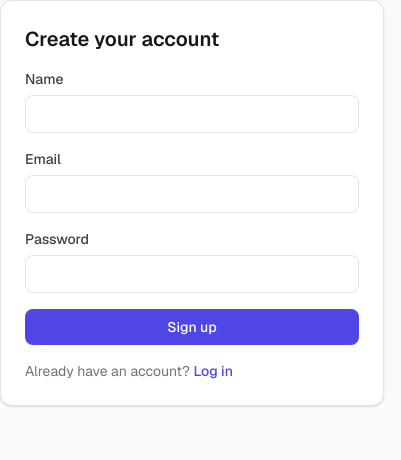
SignupForm › renders the error the action returns
The width and height of the screenshot is (401, 460).
Step 1. Type "taken@example.com" into the field labelled "Email" → (192, 194), box [25,175,359,213]
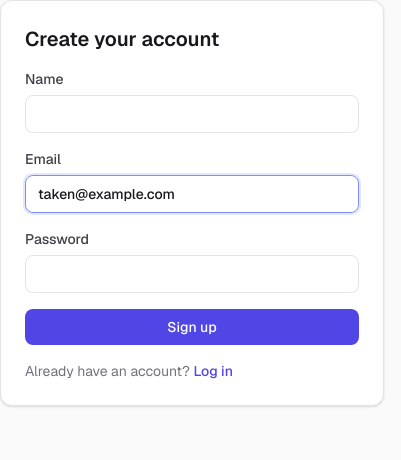
Step 2. Type "supersecret" into the password field labelled "Password" → (192, 274), box [25,255,359,293]
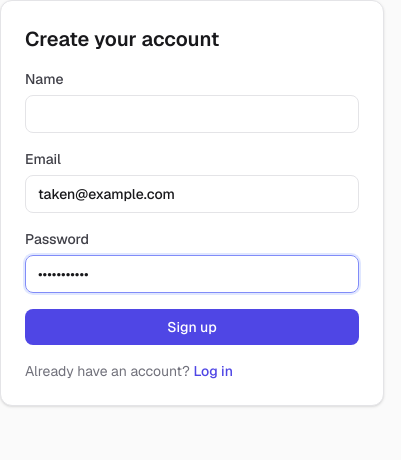
Step 3. Click the button "Sign up" → (192, 327), box [25,309,359,345]
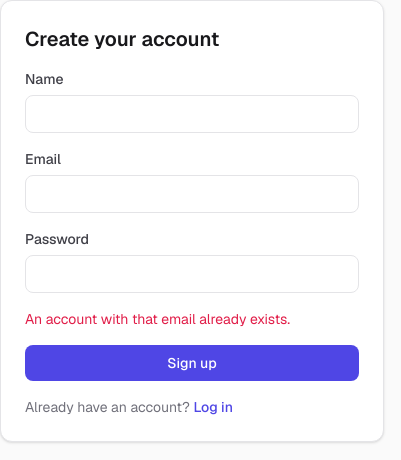
Expected: the text "An account with that email already exists." is shown, [25,310,290,328]
